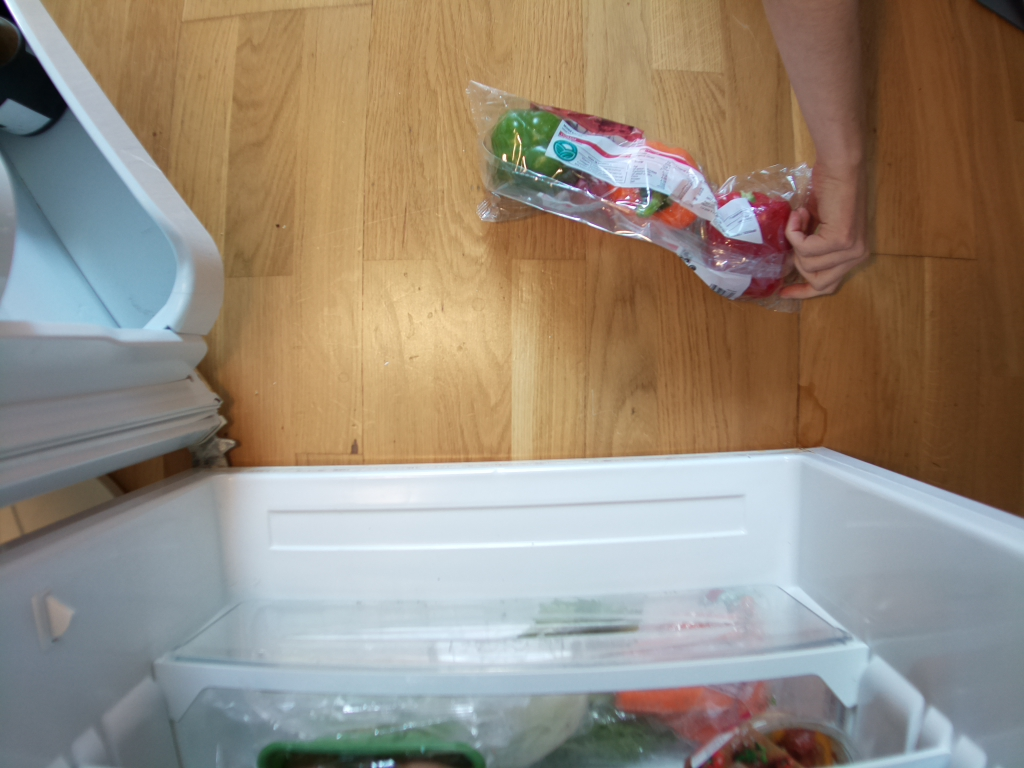pepper: (492, 106, 590, 215), (602, 142, 706, 241), (709, 187, 802, 296)
